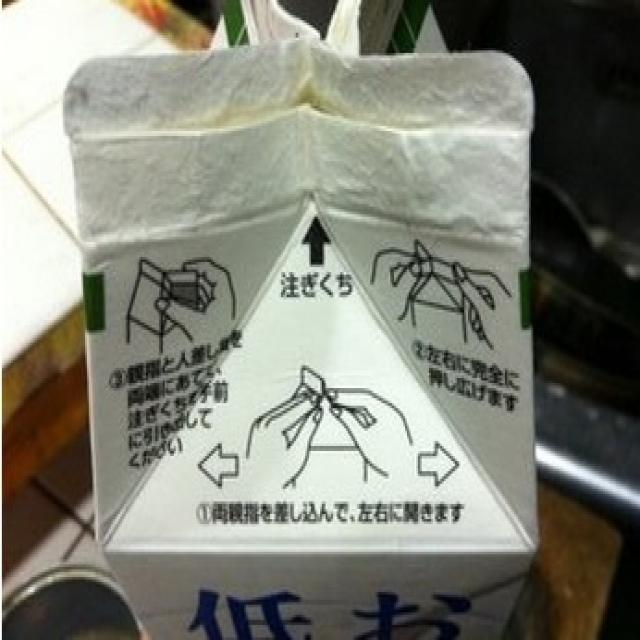cardboard: (69, 27, 537, 640)
